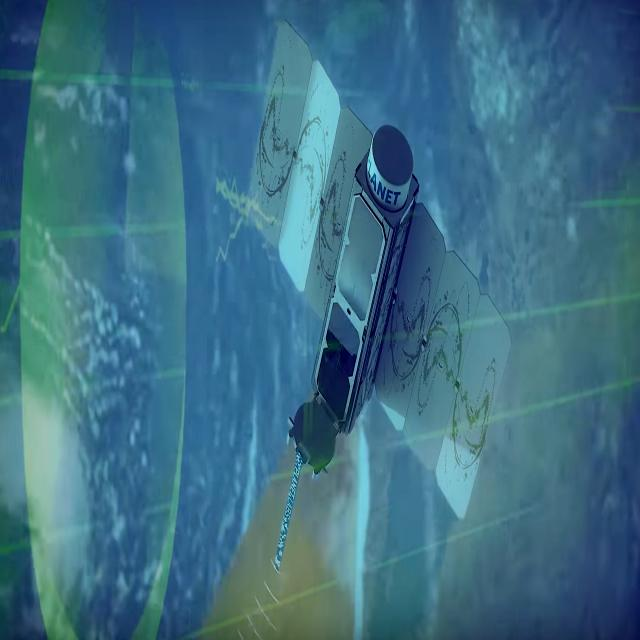satellite: (219, 12, 515, 640)
